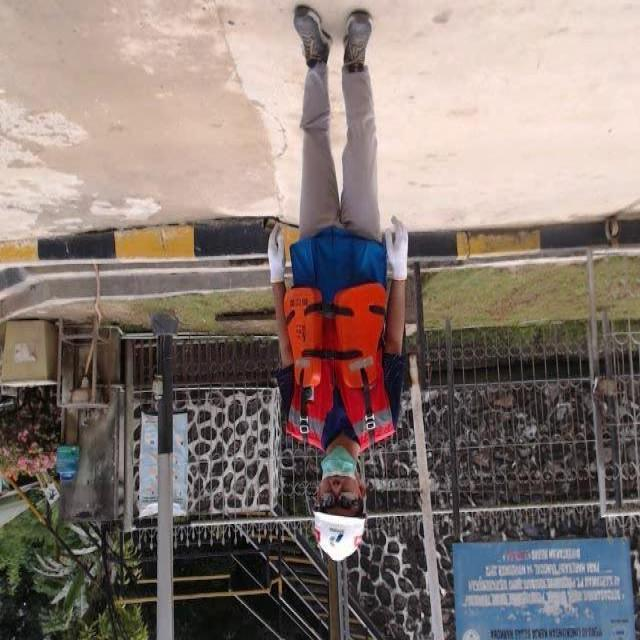helmet: (304, 506, 378, 568)
jacket: (270, 280, 406, 456)
